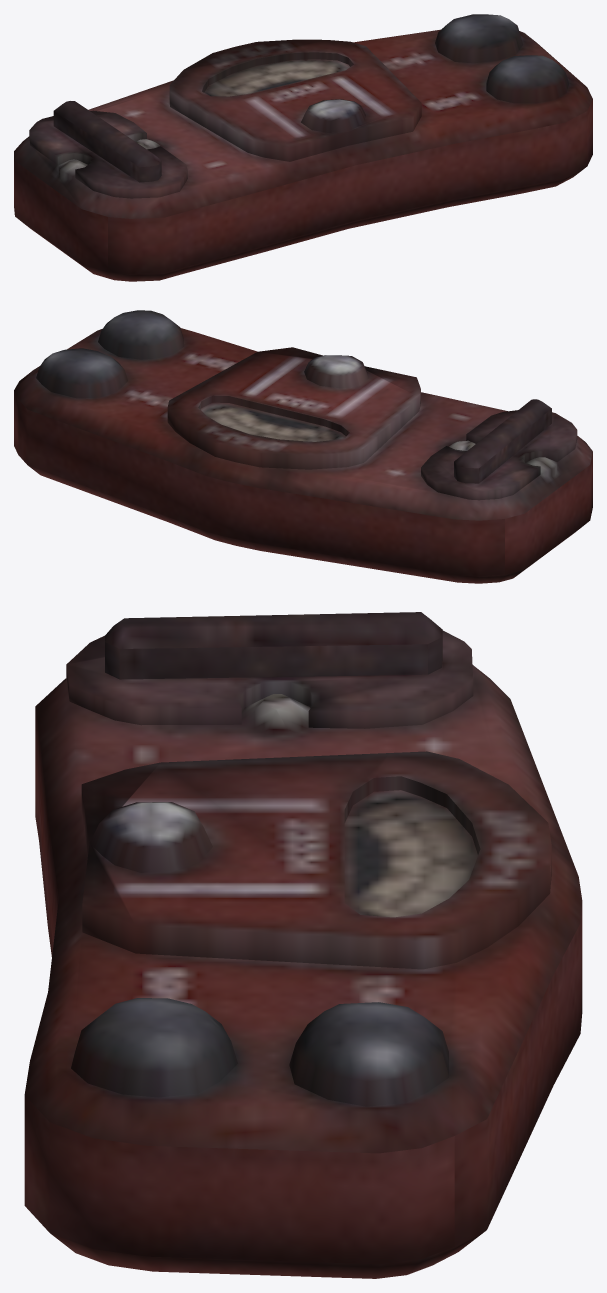
Rendered from dosimeter_1.fbx.
3 views of the same model, one above another, from view 1: azimuth 30°, elevation 25°; view 2: azimuth 150°, elevation 25°; view 3: azimuth 270°, elevation 25° (orthographic). The views are drawn at different scales.
Visible parts, largest first — view 1: dosimeter_1; view 2: dosimeter_1; view 3: dosimeter_1.
Part boxes in pixels (x1,y1,x2,y2): dosimeter_1: (14, 14, 592, 281); dosimeter_1: (14, 310, 592, 583); dosimeter_1: (24, 612, 582, 1278).
Bounding box in the file's own units: 30.97 × 6.56 × 14.59.
